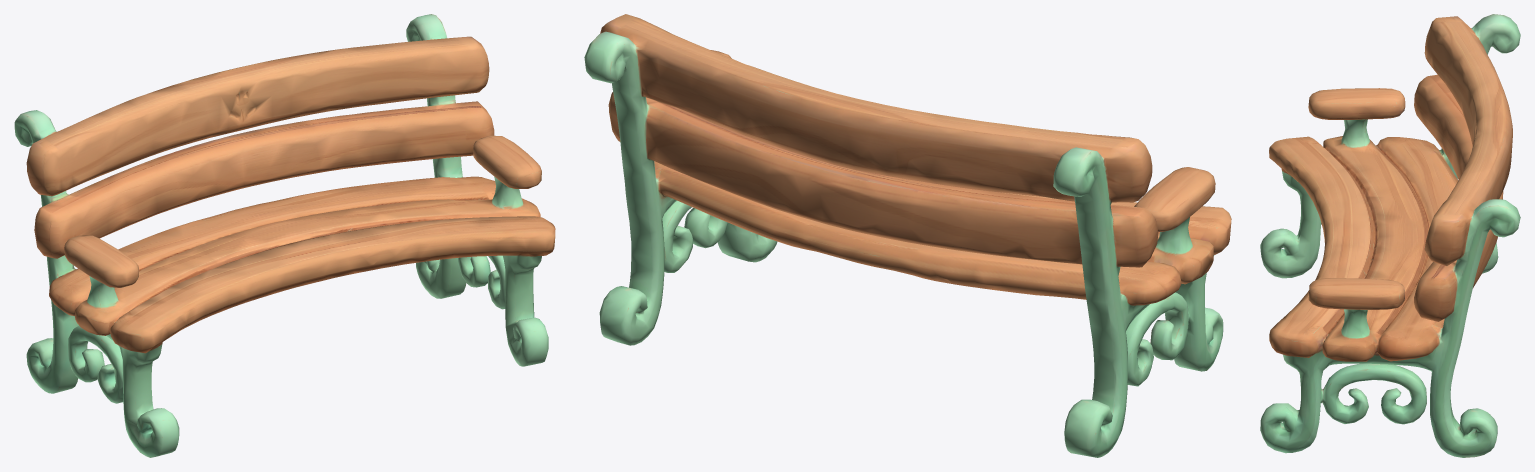
File: hub_bench.glb
3 views of the same model, side by side, from view 1: azimuth 30°, elevation 25°; view 2: azimuth 150°, elevation 25°; view 3: azimuth 270°, elevation 25° (orthographic). The views are drawn at different scales.
Parts seen in each view (by area): view 1: Mesh_0; view 2: Mesh_0; view 3: Mesh_0.
Boxes of the visible parts, x1,y1,x2,y2 form: Mesh_0: (14, 14, 555, 457); Mesh_0: (584, 14, 1231, 457); Mesh_0: (1260, 14, 1520, 457).
Bounding box in the file's own units: 1.91 × 1.06 × 0.9889.
1 material, 1 textured.
